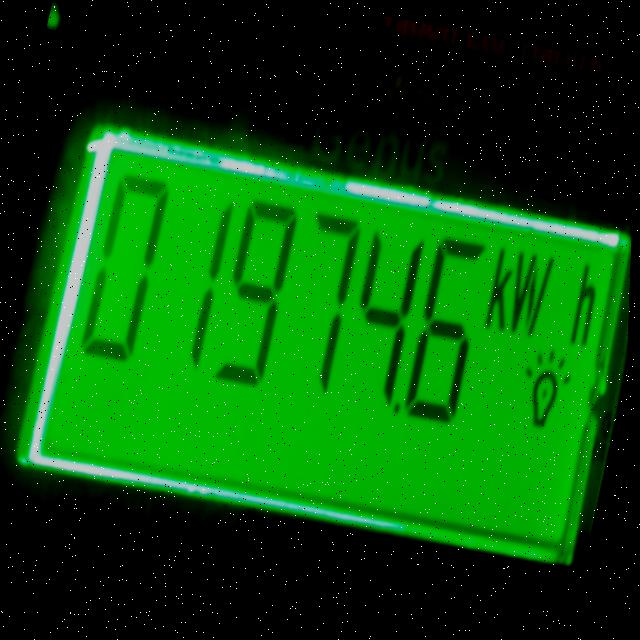.: (394, 396, 409, 422)
0: (76, 164, 180, 371), (168, 192, 240, 378)
4: (337, 214, 434, 412)
6: (402, 225, 501, 428)
7: (279, 201, 377, 400)
9: (205, 189, 311, 400)
